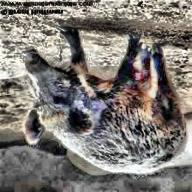boar: (9, 11, 192, 173)
